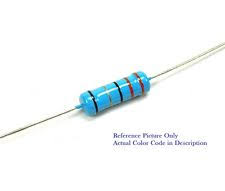resistor: (65, 65, 171, 124)
